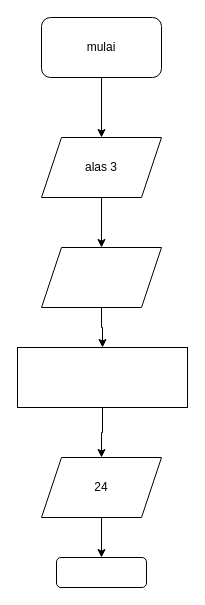
Some shapes in this 205 by 605 pixel diagram are drawn without their labels. The shapes that lost their labels are listed below. From the top down, each one's centre as x and y in pixels, then its label:
At pixel 101 277: "tinggi 8".
At pixel 102 377: "luas = 1/2 * (alas*tinggi) luas = 1/2 * (3*8)".
